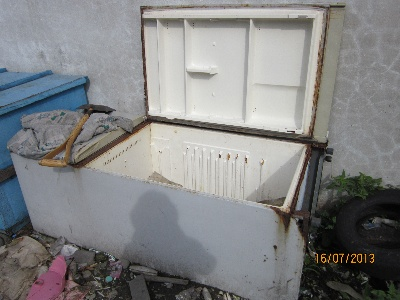box: (8, 94, 330, 299)
